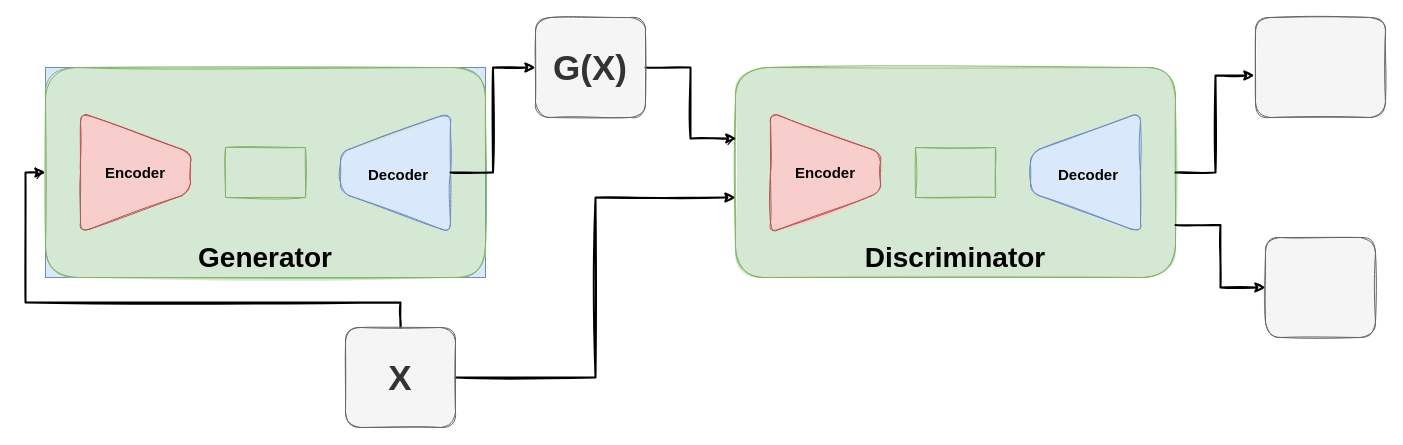
The diagram is 1403 pixels wide and 445 high, and some of its shapes have lost their labels. Each missing label, with the centre of its shape:
D(G(X)): point 1320,67
D(X): point 1320,287
Z d: point 955,172
Z g: point 265,172
